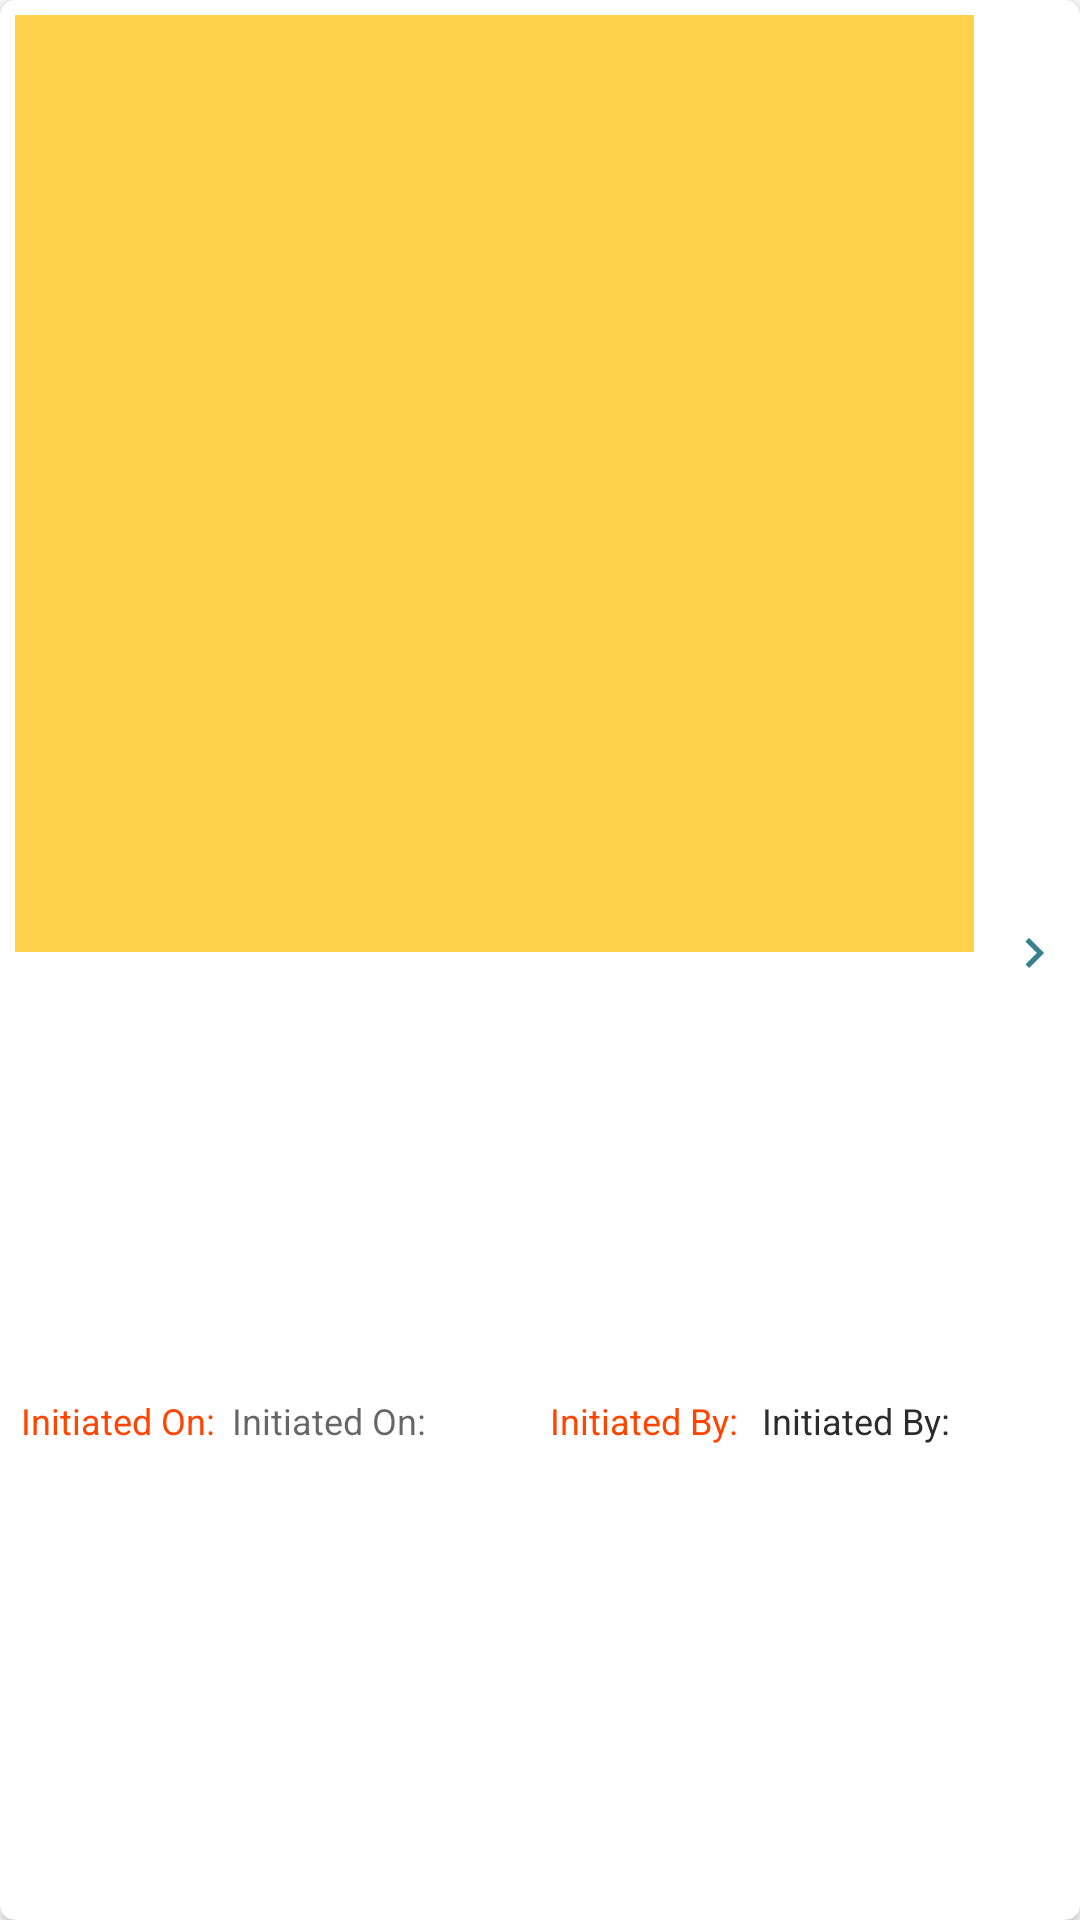

Screen size 1080px x 1920px. Icon name, then its box in pixels as (x1, y1, x2, y2):
right: (1025, 938, 1044, 968)
